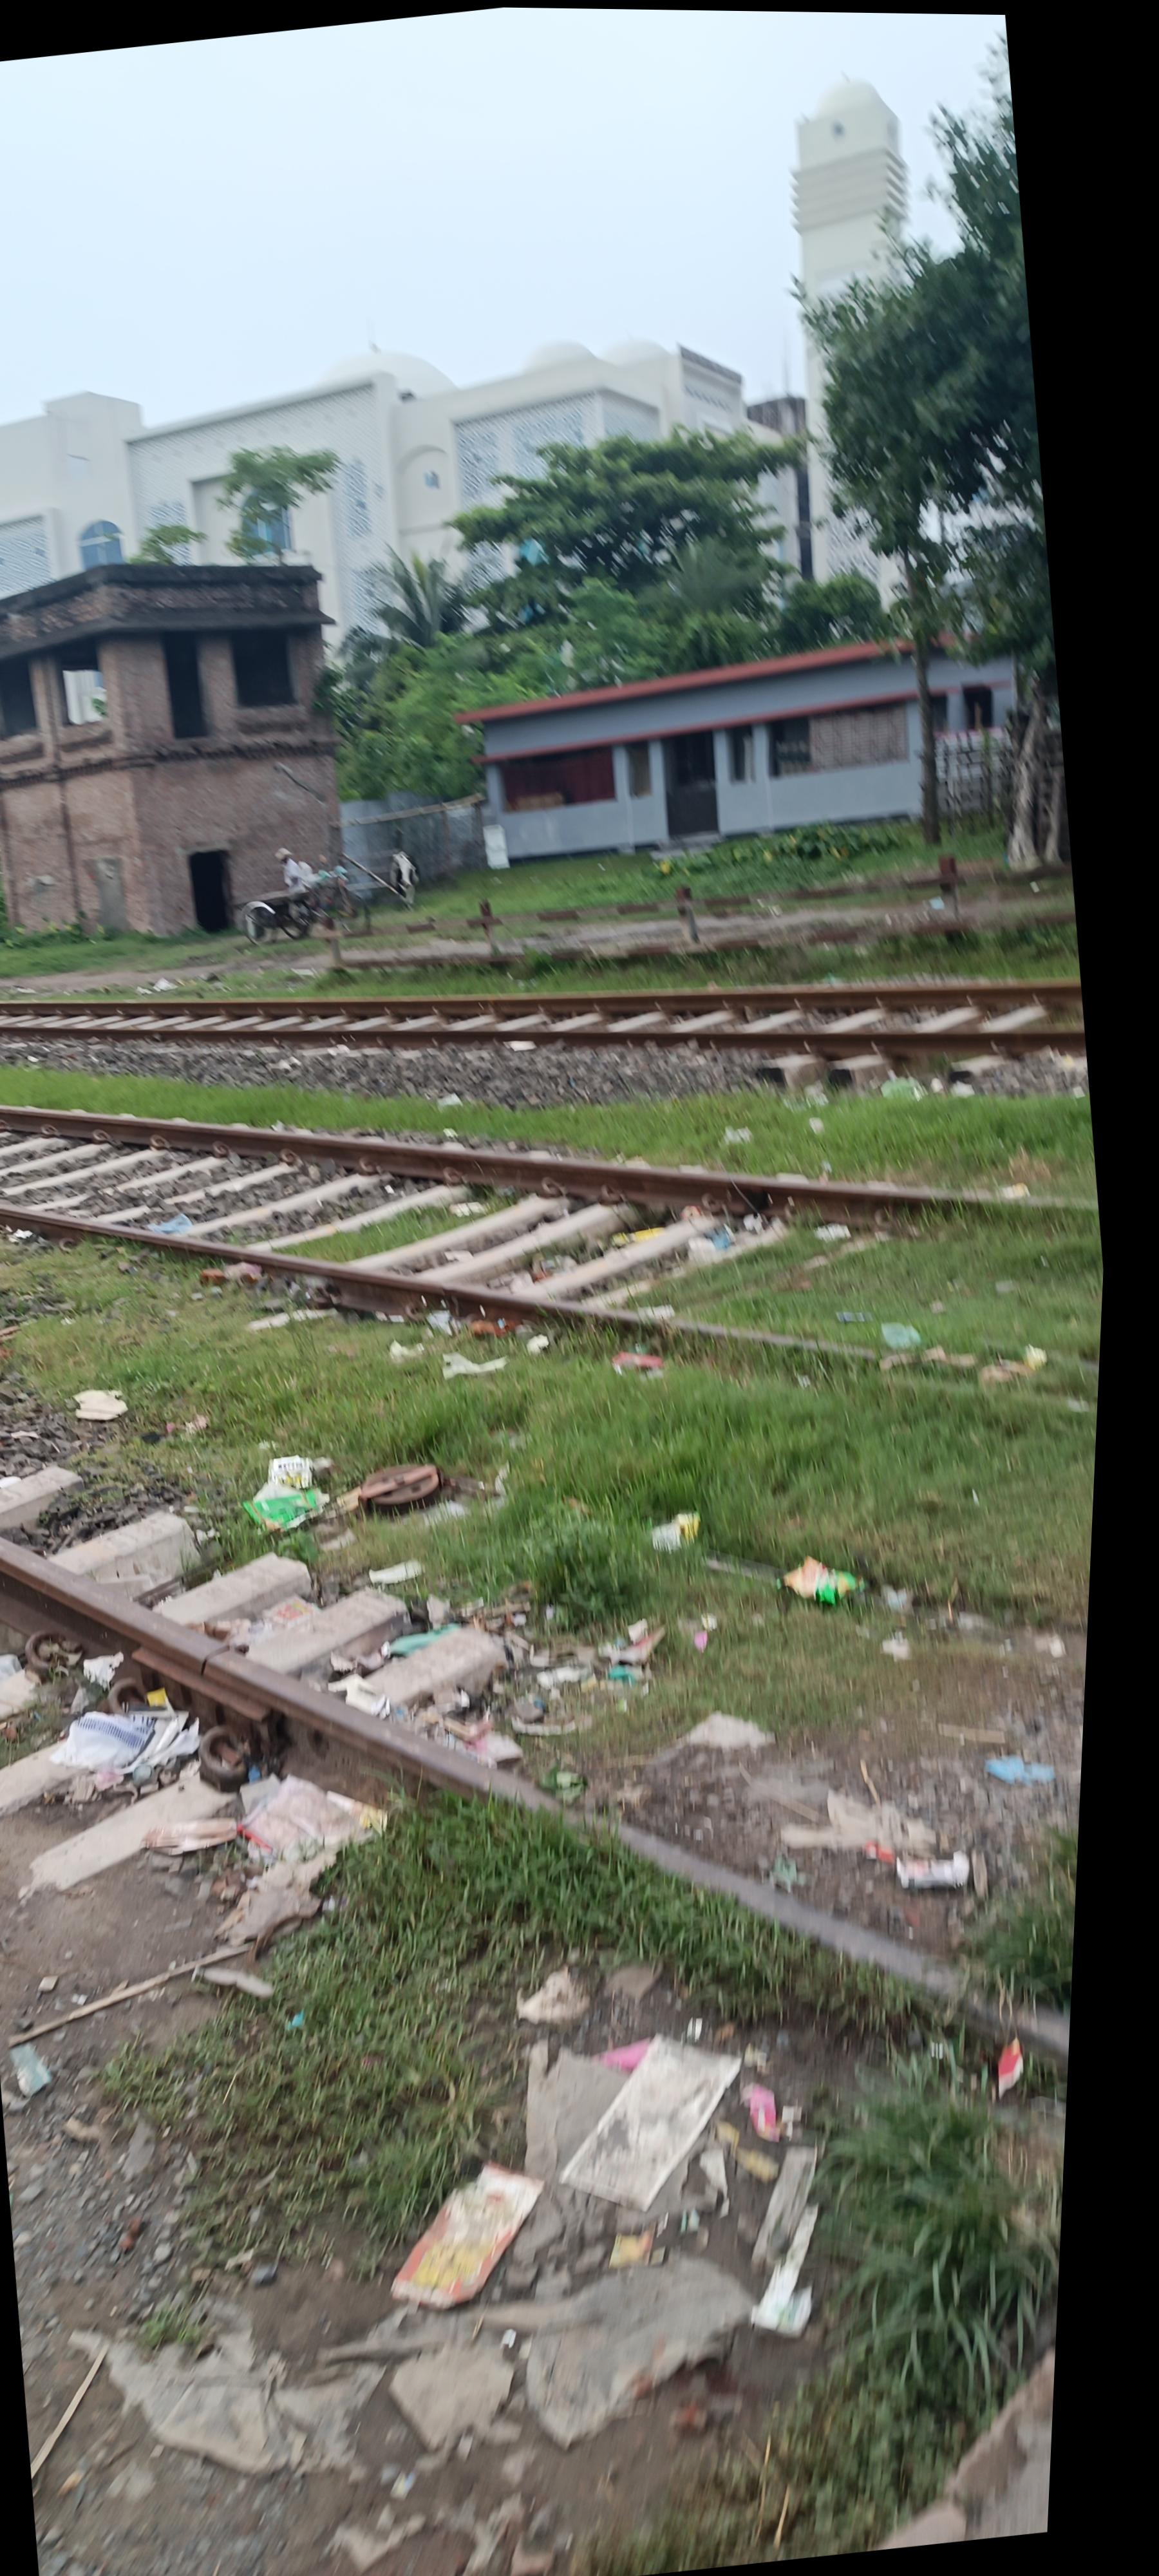Obstacle: (0, 904, 1103, 2471)
